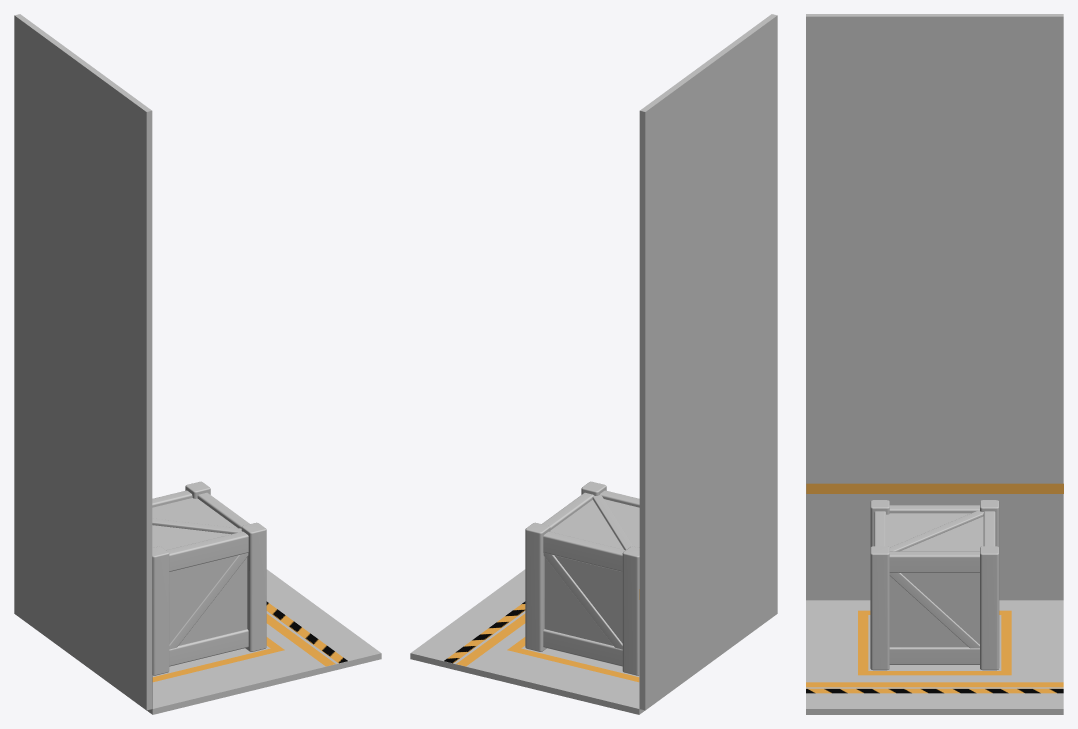
The model's file is UnityMaterialTest.fbx.
The picture shows the model from 3 angles, left to right: view 1: azimuth 30°, elevation 25°; view 2: azimuth 150°, elevation 25°; view 3: azimuth 270°, elevation 25°; orthographic projection. The views are drawn at different scales.
Visible parts, largest first — view 1: pPlane23, Crate_4, pCube28, pPlane26, pPlane25, pPlane24; view 2: pPlane23, Crate_4, pCube28, pPlane26, pPlane25, pPlane24; view 3: pPlane23, Crate_4, pCube28, pPlane26, pPlane24, pPlane25.
Boxes of the visible parts, <box> form: pPlane23: <box>14,14,152,710</box>; Crate_4: <box>152,481,266,675</box>; pCube28: <box>147,569,381,714</box>; pPlane26: <box>152,637,284,682</box>; pPlane25: <box>266,601,347,663</box>; pPlane24: <box>266,613,335,666</box>; pPlane23: <box>639,14,777,710</box>; Crate_4: <box>525,481,639,675</box>; pCube28: <box>410,569,644,714</box>; pPlane26: <box>507,637,639,682</box>; pPlane25: <box>444,601,525,663</box>; pPlane24: <box>456,613,525,666</box>; pPlane23: <box>806,14,1063,600</box>; Crate_4: <box>870,500,999,670</box>; pCube28: <box>806,600,1063,714</box>; pPlane26: <box>858,610,1011,675</box>; pPlane24: <box>806,682,1063,687</box>; pPlane25: <box>806,688,1063,693</box>.
Size of the model in its own units: 411 by 1010 by 401.
